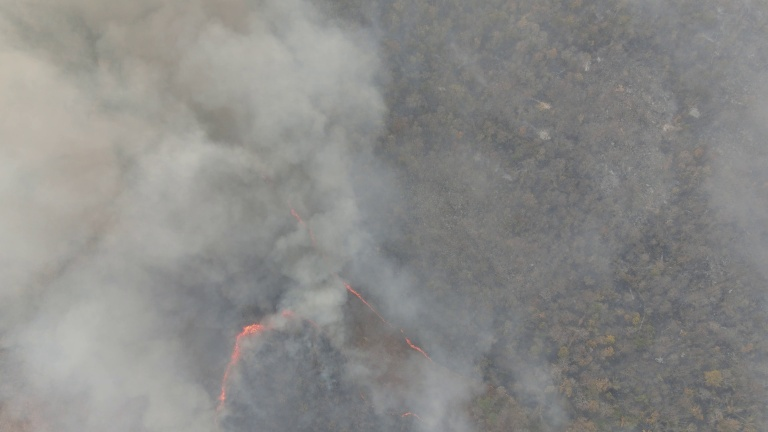fire: (218, 305, 303, 424), (395, 328, 460, 384), (329, 275, 392, 331), (279, 202, 319, 253), (359, 395, 426, 423)
smoke: (3, 9, 368, 421)
